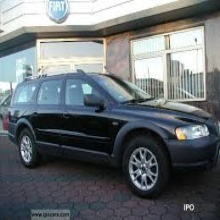no damage: (8, 72, 220, 199)
